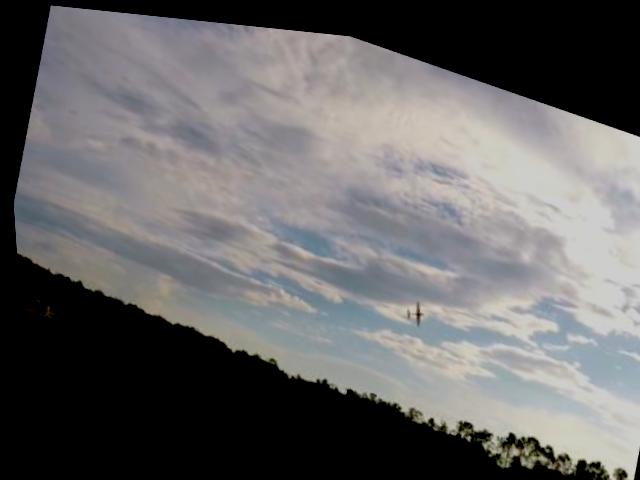uav: (391, 280, 431, 329)
